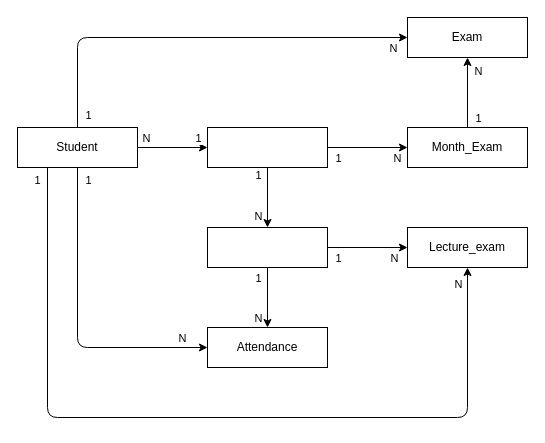
Some shapes in this 545 by 443 pixel diagram are drawn without their labels. Here are the shapes that lost their labels. From the top down, the centre of each, then its label:
point (267, 147): Group
point (267, 247): Lecture
